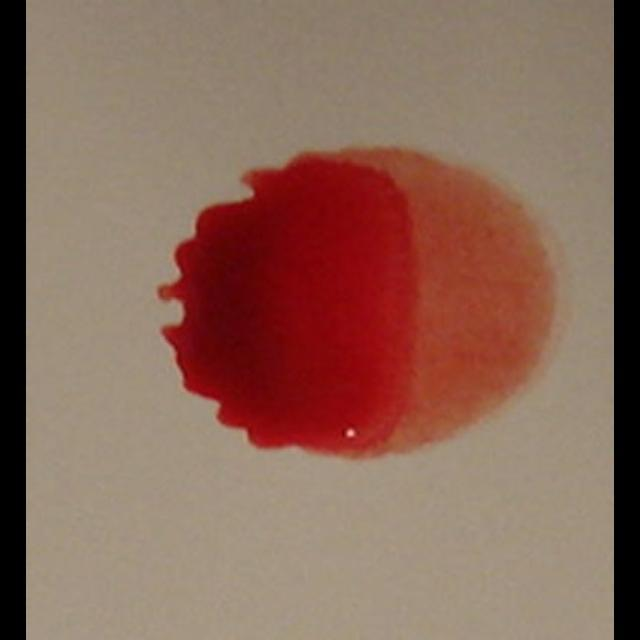blood: (156, 146, 558, 456)
